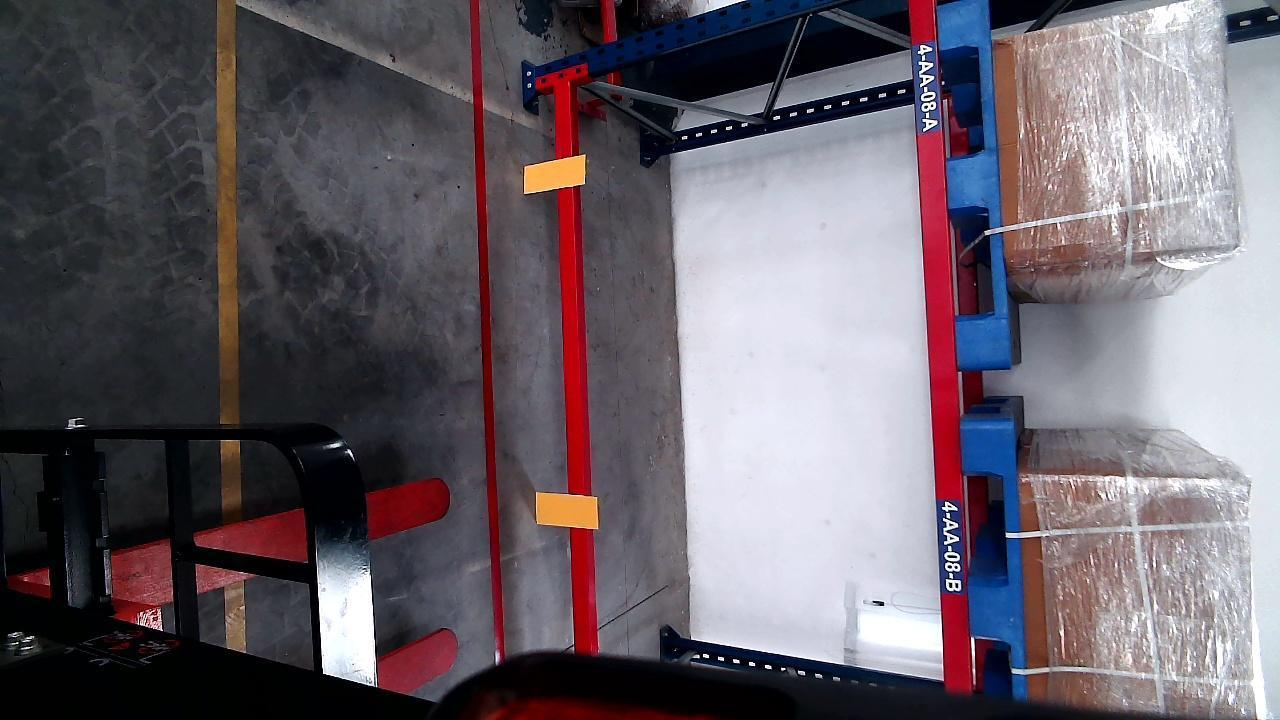h_rack: (911, 0, 969, 690), (553, 73, 594, 662)
orange_strip: (522, 154, 586, 194), (534, 492, 598, 528)
small_pallet: (940, 0, 1022, 370), (965, 425, 1025, 693)
yellow_line: (215, 1, 242, 440)
